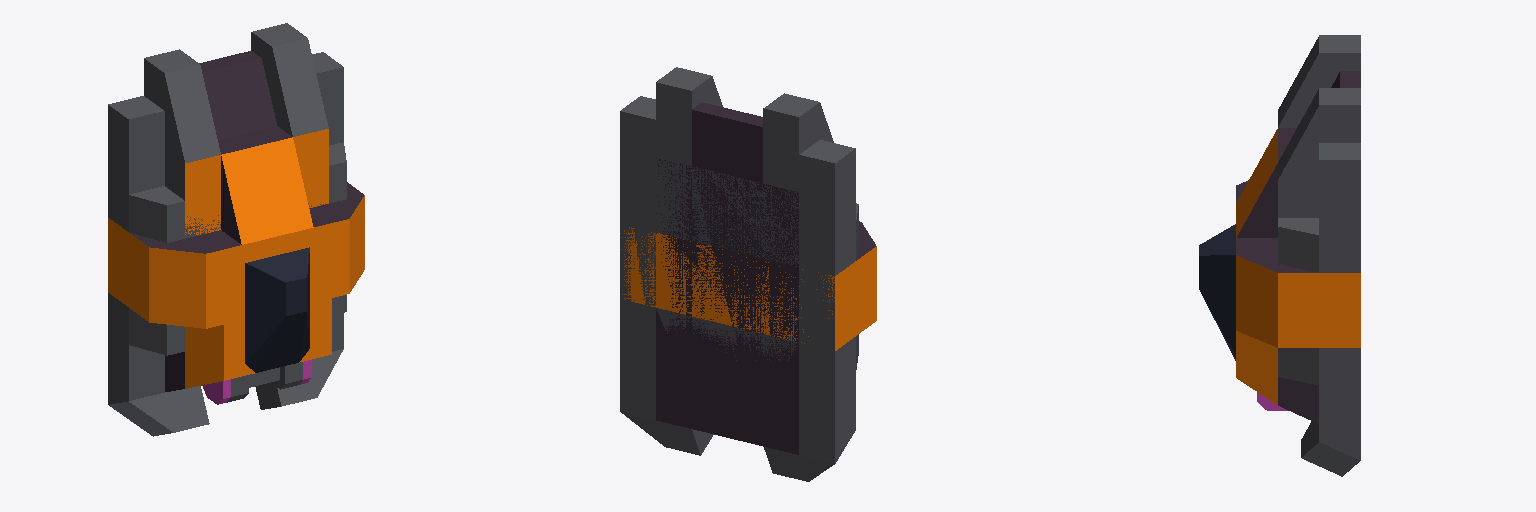
3 views of the same model, side by side, from view 1: azimuth 30°, elevation 25°; view 2: azimuth 150°, elevation 25°; view 3: azimuth 270°, elevation 25° (orthographic).
Parts seen in each view (by area): view 1: mergedBlocks; view 2: mergedBlocks; view 3: mergedBlocks.
Part boxes in pixels (x1,y1,x2,y2): mergedBlocks: (108, 23, 364, 436); mergedBlocks: (620, 67, 876, 481); mergedBlocks: (1199, 35, 1360, 476).
Size of the model in its own units: 0.6 by 0.9894 by 0.39.
Materials: 1 (1 with a texture image).